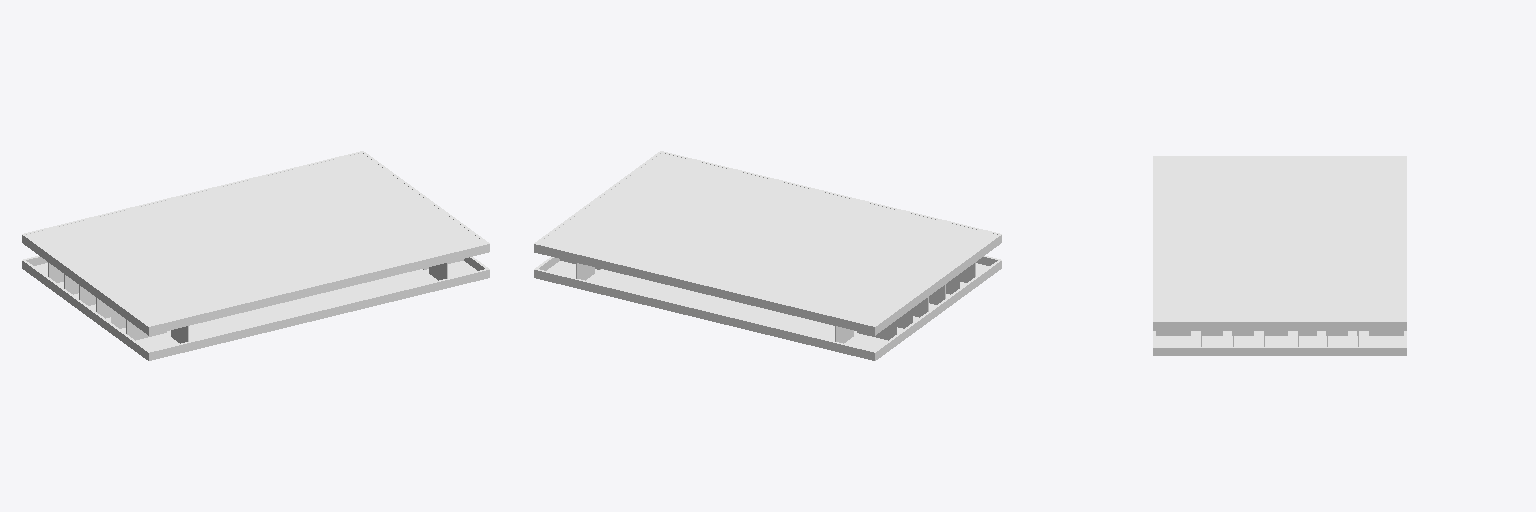
Rendered from Envelope_ForPunch_WWR20p-25p_9ft.obj.
The picture shows the model from 3 angles: view 1: azimuth 30°, elevation 25°; view 2: azimuth 150°, elevation 25°; view 3: azimuth 270°, elevation 25°; orthographic projection.
Visible parts, largest first — view 1: Envelope_ForPunch_WWR20p-25p_9ft.obj; view 2: Envelope_ForPunch_WWR20p-25p_9ft.obj; view 3: Envelope_ForPunch_WWR20p-25p_9ft.obj.
Boxes of the visible parts, <box> form: Envelope_ForPunch_WWR20p-25p_9ft.obj: <box>22,151,489,360</box>; Envelope_ForPunch_WWR20p-25p_9ft.obj: <box>534,151,1001,360</box>; Envelope_ForPunch_WWR20p-25p_9ft.obj: <box>1153,156,1406,355</box>.
Size of the model in its own units: 38.71 by 3.69 by 24.95.